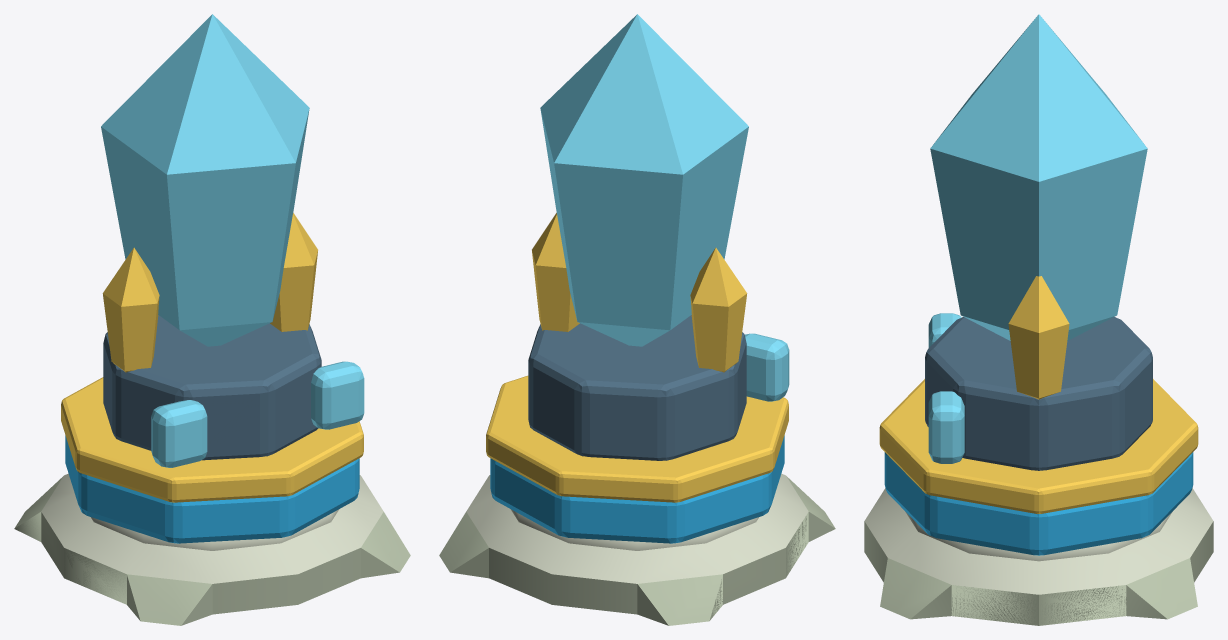
The model's file is NeedleBeacon.fbx.
The picture shows the model from 3 angles, left to right: view 1: azimuth 30°, elevation 25°; view 2: azimuth 150°, elevation 25°; view 3: azimuth 270°, elevation 25°; orthographic projection.
Parts seen in each view (by area): view 1: NeedleBeacon.001; view 2: NeedleBeacon.001; view 3: NeedleBeacon.001.
Part boxes in pixels (bbox=[...]): NeedleBeacon.001: bbox=[14, 14, 410, 625]; NeedleBeacon.001: bbox=[439, 14, 835, 625]; NeedleBeacon.001: bbox=[864, 14, 1213, 625].
Size of the model in its own units: 87 by 148 by 87.
